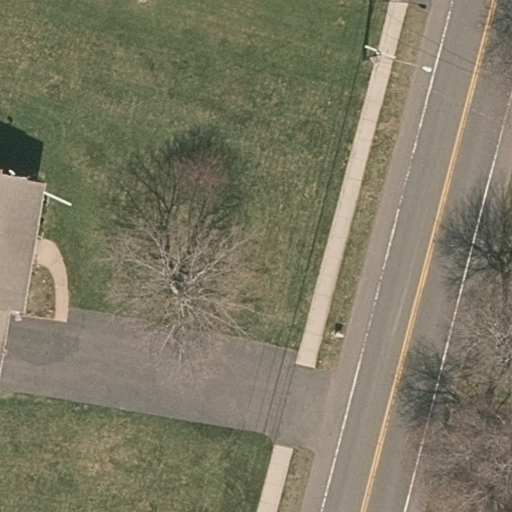DT: (364, 41, 400, 65)
